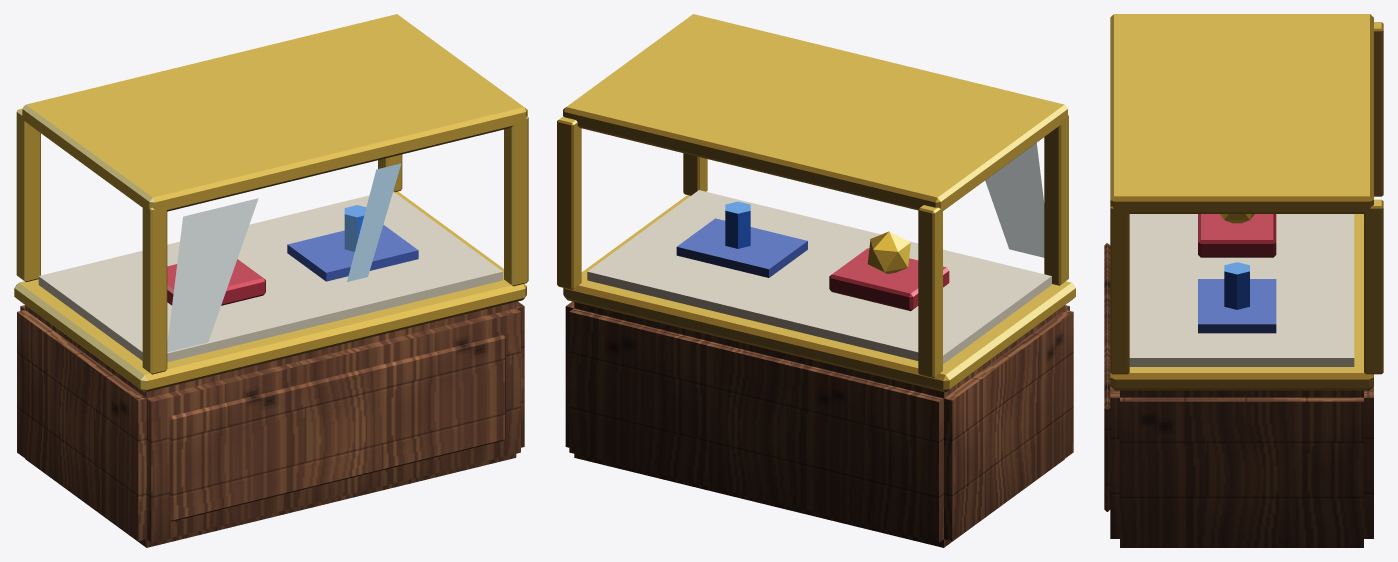
The model's file is display_case.glb.
The picture shows the model from 3 angles, left to right: view 1: azimuth 30°, elevation 25°; view 2: azimuth 150°, elevation 25°; view 3: azimuth 270°, elevation 25°; orthographic projection.
Parts seen in each view (by area): view 1: display_case; view 2: display_case; view 3: display_case.
Boxes of the visible parts, box(x1,y1,x2,y2) form: display_case: box(14, 14, 528, 547); display_case: box(557, 14, 1075, 547); display_case: box(1104, 14, 1383, 547).
Size of the model in its own units: 0.92 by 0.802 by 0.572.
Materials: 10 (10 with a texture image).
